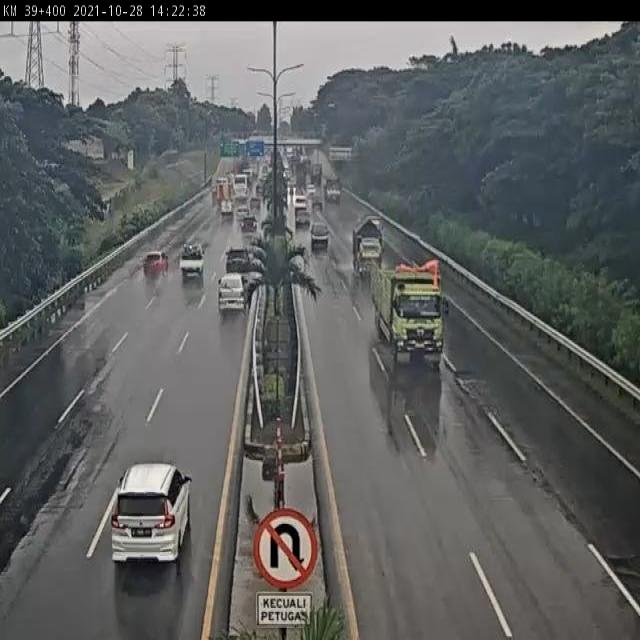Bus: (232, 175, 248, 199)
Car: (109, 462, 191, 564), (225, 247, 253, 274), (143, 250, 169, 277), (309, 220, 330, 251), (240, 214, 258, 235), (250, 194, 261, 211), (306, 182, 317, 198)
Truck: (369, 256, 445, 367), (352, 215, 384, 279), (180, 242, 207, 277), (325, 178, 342, 205), (220, 199, 233, 218)
Van: (217, 272, 247, 312)
